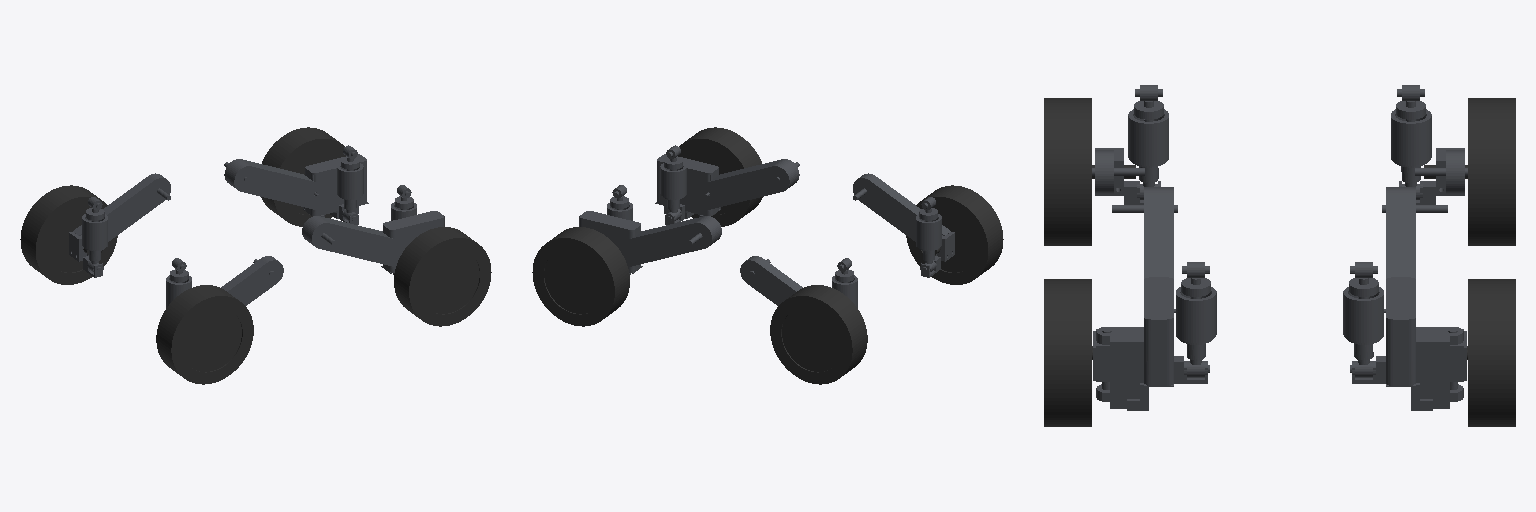
The robot description file, URDF, robot "delivery_bot":
<?xml version="1.0"?>
<!-- Delivery-Bot (Fusion model Delivery-Bot-Body-02, V-0.2)
     Frame convention: x = forward, y = left, z = up, metres. base_link origin = ground point below the rear axle centre.
     Fusion parts named "..._Right" are on the robot's LEFT side (+y) and vice versa.
     Actuated joints: 2x steering (DS5160 servo, position), 4x hub-motor wheels (velocity).
     Passive joints: 4x suspension (trailing arms with spring/damper - set stiffness/damping in the simulator).
     The lid-lock servo (MZ996) is intentionally NOT modelled as an actuator. -->
<robot name="delivery_bot">
  <material name="body_white"><color rgba="0.92 0.90 0.85 1"/></material>
  <material name="part_grey"><color rgba="0.35 0.36 0.38 1"/></material>
  <material name="wheel_grey"><color rgba="0.25 0.25 0.25 1"/></material>
  <link name="base_link">
    <inertial>
      <origin xyz="0.2364 0.0095 0.2697" rpy="0 0 0"/>
      <mass value="15.497"/>
      <inertia ixx="0.63925" ixy="0" ixz="0" iyy="0.82522" iyz="0" izz="0.93912"/>
    </inertial>
    <visual>
      <origin xyz="0.5750 0.0000 0.2100" rpy="0 0 1.5708"/>
      <geometry><mesh filename="package://delivery_bot/meshes/base.stl" scale="0.001 0.001 0.001"/></geometry>
      <material name="body_white"/>
    </visual>
    <collision>
      <origin xyz="0.2450 0.0000 0.3480" rpy="0 0 0"/>
      <geometry><box size="0.660 0.540 0.346"/></geometry>
    </collision>
    <collision>
      <origin xyz="0.2450 0.0000 0.1250" rpy="0 0 0"/>
      <geometry><box size="0.600 0.300 0.100"/></geometry>
    </collision>
  </link>
  <link name="front_left_arm">
    <inertial>
      <origin xyz="0.1553 0.0000 -0.0598" rpy="0 0 0"/>
      <mass value="0.896"/>
      <inertia ixx="0.00346" ixy="0" ixz="0" iyy="0.00777" iyz="0" izz="0.00714"/>
    </inertial>
    <visual>
      <origin xyz="0.2800 -0.1397 0.0341" rpy="0 0 1.5708"/>
      <geometry><mesh filename="package://delivery_bot/meshes/front_arm_R.stl" scale="0.001 0.001 0.001"/></geometry>
      <material name="part_grey"/>
    </visual>
  </link>
  <link name="front_left_steering">
    <inertial>
      <origin xyz="-0.0128 0.0081 -0.0002" rpy="0 0 0"/>
      <mass value="0.084"/>
      <inertia ixx="0.00003" ixy="0" ixz="0" iyy="0.00005" iyz="0" izz="0.00005"/>
    </inertial>
    <visual>
      <origin xyz="0.0650 -0.1980 0.1250" rpy="0 0 1.5708"/>
      <geometry><mesh filename="package://delivery_bot/meshes/steer_R.stl" scale="0.001 0.001 0.001"/></geometry>
      <material name="part_grey"/>
    </visual>
  </link>
  <link name="front_left_wheel">
    <inertial>
      <origin xyz="0.0000 0.0000 0.0000" rpy="0 0 0"/>
      <mass value="2.800"/>
      <inertia ixx="0.00574" ixy="0" ixz="0" iyy="0.01012" iyz="0" izz="0.00574"/>
    </inertial>
    <visual>
      <origin xyz="0.0850 -0.2425 0.1250" rpy="0 0 1.5708"/>
      <geometry><mesh filename="package://delivery_bot/meshes/wheel_front_R.stl" scale="0.001 0.001 0.001"/></geometry>
      <material name="wheel_grey"/>
    </visual>
    <collision>
      <origin xyz="0 0 0" rpy="1.5708 0 0"/>
      <geometry><cylinder radius="0.085" length="0.054"/></geometry>
    </collision>
  </link>
  <link name="rear_left_arm">
    <inertial>
      <origin xyz="-0.1051 -0.0241 -0.0328" rpy="0 0 0"/>
      <mass value="0.377"/>
      <inertia ixx="0.00094" ixy="0" ixz="0" iyy="0.00199" iyz="0" izz="0.00155"/>
    </inertial>
    <visual>
      <origin xyz="0.4200 -0.2010 0.0527" rpy="0 0 1.5708"/>
      <geometry><mesh filename="package://delivery_bot/meshes/rear_arm_R.stl" scale="0.001 0.001 0.001"/></geometry>
      <material name="part_grey"/>
    </visual>
  </link>
  <link name="rear_left_wheel">
    <inertial>
      <origin xyz="0.0000 0.0000 0.0000" rpy="0 0 0"/>
      <mass value="2.800"/>
      <inertia ixx="0.00574" ixy="0" ixz="0" iyy="0.01012" iyz="0" izz="0.00574"/>
    </inertial>
    <visual>
      <origin xyz="0.5750 -0.2425 0.1250" rpy="0 0 1.5708"/>
      <geometry><mesh filename="package://delivery_bot/meshes/wheel_rear_R.stl" scale="0.001 0.001 0.001"/></geometry>
      <material name="wheel_grey"/>
    </visual>
    <collision>
      <origin xyz="0 0 0" rpy="1.5708 0 0"/>
      <geometry><cylinder radius="0.085" length="0.054"/></geometry>
    </collision>
  </link>
  <link name="front_right_arm">
    <inertial>
      <origin xyz="0.1553 0.0000 -0.0598" rpy="0 0 0"/>
      <mass value="0.896"/>
      <inertia ixx="0.00346" ixy="0" ixz="0" iyy="0.00777" iyz="0" izz="0.00714"/>
    </inertial>
    <visual>
      <origin xyz="0.2800 0.1397 0.0341" rpy="0 0 1.5708"/>
      <geometry><mesh filename="package://delivery_bot/meshes/front_arm_L.stl" scale="0.001 0.001 0.001"/></geometry>
      <material name="part_grey"/>
    </visual>
  </link>
  <link name="front_right_steering">
    <inertial>
      <origin xyz="-0.0128 -0.0081 -0.0002" rpy="0 0 0"/>
      <mass value="0.084"/>
      <inertia ixx="0.00003" ixy="0" ixz="0" iyy="0.00005" iyz="0" izz="0.00005"/>
    </inertial>
    <visual>
      <origin xyz="0.0650 0.1980 0.1250" rpy="0 0 1.5708"/>
      <geometry><mesh filename="package://delivery_bot/meshes/steer_L.stl" scale="0.001 0.001 0.001"/></geometry>
      <material name="part_grey"/>
    </visual>
  </link>
  <link name="front_right_wheel">
    <inertial>
      <origin xyz="0.0000 0.0000 0.0000" rpy="0 0 0"/>
      <mass value="2.800"/>
      <inertia ixx="0.00574" ixy="0" ixz="0" iyy="0.01012" iyz="0" izz="0.00574"/>
    </inertial>
    <visual>
      <origin xyz="0.0850 0.2425 0.1250" rpy="0 0 1.5708"/>
      <geometry><mesh filename="package://delivery_bot/meshes/wheel_front_L.stl" scale="0.001 0.001 0.001"/></geometry>
      <material name="wheel_grey"/>
    </visual>
    <collision>
      <origin xyz="0 0 0" rpy="1.5708 0 0"/>
      <geometry><cylinder radius="0.085" length="0.054"/></geometry>
    </collision>
  </link>
  <link name="rear_right_arm">
    <inertial>
      <origin xyz="-0.1051 0.0241 -0.0328" rpy="0 0 0"/>
      <mass value="0.377"/>
      <inertia ixx="0.00094" ixy="0" ixz="0" iyy="0.00199" iyz="0" izz="0.00155"/>
    </inertial>
    <visual>
      <origin xyz="0.4200 0.2010 0.0527" rpy="0 0 1.5708"/>
      <geometry><mesh filename="package://delivery_bot/meshes/rear_arm_L.stl" scale="0.001 0.001 0.001"/></geometry>
      <material name="part_grey"/>
    </visual>
  </link>
  <link name="rear_right_wheel">
    <inertial>
      <origin xyz="0.0000 0.0000 0.0000" rpy="0 0 0"/>
      <mass value="2.800"/>
      <inertia ixx="0.00574" ixy="0" ixz="0" iyy="0.01012" iyz="0" izz="0.00574"/>
    </inertial>
    <visual>
      <origin xyz="0.5750 0.2425 0.1250" rpy="0 0 1.5708"/>
      <geometry><mesh filename="package://delivery_bot/meshes/wheel_rear_L.stl" scale="0.001 0.001 0.001"/></geometry>
      <material name="wheel_grey"/>
    </visual>
    <collision>
      <origin xyz="0 0 0" rpy="1.5708 0 0"/>
      <geometry><cylinder radius="0.085" length="0.054"/></geometry>
    </collision>
  </link>
  <joint name="front_left_suspension_joint" type="revolute">
    <parent link="base_link"/>
    <child link="front_left_arm"/>
    <origin xyz="0.2950 0.1397 0.1759" rpy="0 0 0"/>
    <axis xyz="0 1 0"/>
    <limit lower="-0.122" upper="0.140" effort="200.0" velocity="5.0"/>
    <dynamics damping="2.00" friction="0.10"/>
  </joint>
  <joint name="front_left_steering_joint" type="revolute">
    <parent link="front_left_arm"/>
    <child link="front_left_steering"/>
    <origin xyz="0.2150 0.0583 -0.0909" rpy="0 0 0"/>
    <axis xyz="0 0 1"/>
    <limit lower="-0.349" upper="0.454" effort="5.9" velocity="7.0"/>
    <dynamics damping="0.05" friction="0.05"/>
  </joint>
  <joint name="front_left_wheel_joint" type="continuous">
    <parent link="front_left_steering"/>
    <child link="front_left_wheel"/>
    <origin xyz="-0.0200 0.0445 0.0000" rpy="0 0 0"/>
    <axis xyz="0 1 0"/>
    <limit effort="10.0" velocity="35.0"/>
    <dynamics damping="0.01" friction="0.02"/>
  </joint>
  <joint name="rear_left_suspension_joint" type="revolute">
    <parent link="base_link"/>
    <child link="rear_left_arm"/>
    <origin xyz="0.1550 0.2010 0.1573" rpy="0 0 0"/>
    <axis xyz="0 1 0"/>
    <limit lower="-0.175" upper="0.175" effort="200.0" velocity="5.0"/>
    <dynamics damping="2.00" friction="0.10"/>
  </joint>
  <joint name="rear_left_wheel_joint" type="continuous">
    <parent link="rear_left_arm"/>
    <child link="rear_left_wheel"/>
    <origin xyz="-0.1550 0.0415 -0.0723" rpy="0 0 0"/>
    <axis xyz="0 1 0"/>
    <limit effort="10.0" velocity="35.0"/>
    <dynamics damping="0.01" friction="0.02"/>
  </joint>
  <joint name="front_right_suspension_joint" type="revolute">
    <parent link="base_link"/>
    <child link="front_right_arm"/>
    <origin xyz="0.2950 -0.1397 0.1759" rpy="0 0 0"/>
    <axis xyz="0 1 0"/>
    <limit lower="-0.122" upper="0.140" effort="200.0" velocity="5.0"/>
    <dynamics damping="2.00" friction="0.10"/>
  </joint>
  <joint name="front_right_steering_joint" type="revolute">
    <parent link="front_right_arm"/>
    <child link="front_right_steering"/>
    <origin xyz="0.2150 -0.0583 -0.0909" rpy="0 0 0"/>
    <axis xyz="0 0 1"/>
    <limit lower="-0.454" upper="0.349" effort="5.9" velocity="7.0"/>
    <dynamics damping="0.05" friction="0.05"/>
  </joint>
  <joint name="front_right_wheel_joint" type="continuous">
    <parent link="front_right_steering"/>
    <child link="front_right_wheel"/>
    <origin xyz="-0.0200 -0.0445 0.0000" rpy="0 0 0"/>
    <axis xyz="0 1 0"/>
    <limit effort="10.0" velocity="35.0"/>
    <dynamics damping="0.01" friction="0.02"/>
  </joint>
  <joint name="rear_right_suspension_joint" type="revolute">
    <parent link="base_link"/>
    <child link="rear_right_arm"/>
    <origin xyz="0.1550 -0.2010 0.1573" rpy="0 0 0"/>
    <axis xyz="0 1 0"/>
    <limit lower="-0.175" upper="0.175" effort="200.0" velocity="5.0"/>
    <dynamics damping="2.00" friction="0.10"/>
  </joint>
  <joint name="rear_right_wheel_joint" type="continuous">
    <parent link="rear_right_arm"/>
    <child link="rear_right_wheel"/>
    <origin xyz="-0.1550 -0.0415 -0.0723" rpy="0 0 0"/>
    <axis xyz="0 1 0"/>
    <limit effort="10.0" velocity="35.0"/>
    <dynamics damping="0.01" friction="0.02"/>
  </joint>
  <link name="lidar_link"/>
  <joint name="lidar_link_joint" type="fixed">
    <parent link="base_link"/>
    <child link="lidar_link"/>
    <origin xyz="0.4550 0.0000 0.5146" rpy="0 0 0.0000"/>
  </joint>
  <link name="stereo_camera_link"/>
  <joint name="stereo_camera_link_joint" type="fixed">
    <parent link="base_link"/>
    <child link="stereo_camera_link"/>
    <origin xyz="0.5510 0.0000 0.4180" rpy="0 0 0.0000"/>
  </joint>
  <link name="stereo_left_camera"/>
  <joint name="stereo_left_camera_joint" type="fixed">
    <parent link="base_link"/>
    <child link="stereo_left_camera"/>
    <origin xyz="0.5510 0.0310 0.4180" rpy="0 0 0.0000"/>
  </joint>
  <link name="stereo_left_camera_optical_frame"/>
  <joint name="stereo_left_camera_optical_joint" type="fixed">
    <parent link="stereo_left_camera"/>
    <child link="stereo_left_camera_optical_frame"/>
    <origin xyz="0 0 0" rpy="-1.5708 0 -1.5708"/>
  </joint>
  <link name="stereo_right_camera"/>
  <joint name="stereo_right_camera_joint" type="fixed">
    <parent link="base_link"/>
    <child link="stereo_right_camera"/>
    <origin xyz="0.5510 -0.0310 0.4180" rpy="0 0 0.0000"/>
  </joint>
  <link name="stereo_right_camera_optical_frame"/>
  <joint name="stereo_right_camera_optical_joint" type="fixed">
    <parent link="stereo_right_camera"/>
    <child link="stereo_right_camera_optical_frame"/>
    <origin xyz="0 0 0" rpy="-1.5708 0 -1.5708"/>
  </joint>
  <link name="mono_left_camera"/>
  <joint name="mono_left_camera_joint" type="fixed">
    <parent link="base_link"/>
    <child link="mono_left_camera"/>
    <origin xyz="0.5326 0.1575 0.4180" rpy="0 0 0.3787"/>
  </joint>
  <link name="mono_left_camera_optical_frame"/>
  <joint name="mono_left_camera_optical_joint" type="fixed">
    <parent link="mono_left_camera"/>
    <child link="mono_left_camera_optical_frame"/>
    <origin xyz="0 0 0" rpy="-1.5708 0 -1.5708"/>
  </joint>
  <link name="mono_right_camera"/>
  <joint name="mono_right_camera_joint" type="fixed">
    <parent link="base_link"/>
    <child link="mono_right_camera"/>
    <origin xyz="0.5326 -0.1575 0.4180" rpy="0 0 -0.3787"/>
  </joint>
  <link name="mono_right_camera_optical_frame"/>
  <joint name="mono_right_camera_optical_joint" type="fixed">
    <parent link="mono_right_camera"/>
    <child link="mono_right_camera_optical_frame"/>
    <origin xyz="0 0 0" rpy="-1.5708 0 -1.5708"/>
  </joint>
  <link name="radar_left_link"/>
  <joint name="radar_left_link_joint" type="fixed">
    <parent link="base_link"/>
    <child link="radar_left_link"/>
    <origin xyz="0.4872 0.2132 0.4180" rpy="0 0 0.9634"/>
  </joint>
  <link name="radar_right_link"/>
  <joint name="radar_right_link_joint" type="fixed">
    <parent link="base_link"/>
    <child link="radar_right_link"/>
    <origin xyz="0.4872 -0.2132 0.4180" rpy="0 0 -0.9634"/>
  </joint>
  <transmission name="front_left_steering_joint_trans">
    <type>transmission_interface/SimpleTransmission</type>
    <joint name="front_left_steering_joint"><hardwareInterface>hardware_interface/PositionJointInterface</hardwareInterface></joint>
    <actuator name="servo_ds5160_left"><hardwareInterface>hardware_interface/PositionJointInterface</hardwareInterface><mechanicalReduction>1</mechanicalReduction></actuator>
  </transmission>
  <transmission name="front_right_steering_joint_trans">
    <type>transmission_interface/SimpleTransmission</type>
    <joint name="front_right_steering_joint"><hardwareInterface>hardware_interface/PositionJointInterface</hardwareInterface></joint>
    <actuator name="servo_ds5160_right"><hardwareInterface>hardware_interface/PositionJointInterface</hardwareInterface><mechanicalReduction>1</mechanicalReduction></actuator>
  </transmission>
  <transmission name="front_left_wheel_joint_trans">
    <type>transmission_interface/SimpleTransmission</type>
    <joint name="front_left_wheel_joint"><hardwareInterface>hardware_interface/VelocityJointInterface</hardwareInterface></joint>
    <actuator name="hub_motor_front_left"><hardwareInterface>hardware_interface/VelocityJointInterface</hardwareInterface><mechanicalReduction>1</mechanicalReduction></actuator>
  </transmission>
  <transmission name="front_right_wheel_joint_trans">
    <type>transmission_interface/SimpleTransmission</type>
    <joint name="front_right_wheel_joint"><hardwareInterface>hardware_interface/VelocityJointInterface</hardwareInterface></joint>
    <actuator name="hub_motor_front_right"><hardwareInterface>hardware_interface/VelocityJointInterface</hardwareInterface><mechanicalReduction>1</mechanicalReduction></actuator>
  </transmission>
  <transmission name="rear_left_wheel_joint_trans">
    <type>transmission_interface/SimpleTransmission</type>
    <joint name="rear_left_wheel_joint"><hardwareInterface>hardware_interface/VelocityJointInterface</hardwareInterface></joint>
    <actuator name="hub_motor_rear_left"><hardwareInterface>hardware_interface/VelocityJointInterface</hardwareInterface><mechanicalReduction>1</mechanicalReduction></actuator>
  </transmission>
  <transmission name="rear_right_wheel_joint_trans">
    <type>transmission_interface/SimpleTransmission</type>
    <joint name="rear_right_wheel_joint"><hardwareInterface>hardware_interface/VelocityJointInterface</hardwareInterface></joint>
    <actuator name="hub_motor_rear_right"><hardwareInterface>hardware_interface/VelocityJointInterface</hardwareInterface><mechanicalReduction>1</mechanicalReduction></actuator>
  </transmission>
  <!-- Sensor descriptions (Gazebo syntax; Unity ignores these - see README). PLACEHOLDER values must be replaced with datasheet values. -->
  <gazebo reference="lidar_link">
    <sensor type="ray" name="lidar"><update_rate>10</update_rate>
      <ray><scan><horizontal><samples>360</samples><min_angle>-3.14159</min_angle><max_angle>3.14159</max_angle></horizontal></scan>
        <range><min>0.15</min><max>12.0</max><resolution>0.01</resolution></range></ray>
    </sensor>
  </gazebo>
  <gazebo reference="stereo_left_camera">
    <sensor type="camera" name="stereo_left"><update_rate>30</update_rate>
      <camera><horizontal_fov>2.06</horizontal_fov><image><width>1920</width><height>1080</height></image><clip><near>0.05</near><far>50</far></clip></camera>
    </sensor>
  </gazebo>
  <gazebo reference="stereo_right_camera">
    <sensor type="camera" name="stereo_right"><update_rate>30</update_rate>
      <camera><horizontal_fov>2.06</horizontal_fov><image><width>1920</width><height>1080</height></image><clip><near>0.05</near><far>50</far></clip></camera>
    </sensor>
  </gazebo>
  <gazebo reference="mono_left_camera">
    <sensor type="camera" name="mono_left"><update_rate>30</update_rate>
      <camera><horizontal_fov>1.2</horizontal_fov><image><width>1280</width><height>720</height></image><clip><near>0.05</near><far>50</far></clip></camera>
    </sensor><!-- PLACEHOLDER specs -->
  </gazebo>
  <gazebo reference="mono_right_camera">
    <sensor type="camera" name="mono_right"><update_rate>30</update_rate>
      <camera><horizontal_fov>1.2</horizontal_fov><image><width>1280</width><height>720</height></image><clip><near>0.05</near><far>50</far></clip></camera>
    </sensor><!-- PLACEHOLDER specs -->
  </gazebo>
  <gazebo reference="radar_left_link">
    <sensor type="ray" name="radar_left"><update_rate>20</update_rate>
      <ray><scan><horizontal><samples>32</samples><min_angle>-0.35</min_angle><max_angle>0.35</max_angle></horizontal></scan>
        <range><min>0.2</min><max>6.0</max><resolution>0.05</resolution></range></ray>
    </sensor><!-- PLACEHOLDER specs -->
  </gazebo>
  <gazebo reference="radar_right_link">
    <sensor type="ray" name="radar_right"><update_rate>20</update_rate>
      <ray><scan><horizontal><samples>32</samples><min_angle>-0.35</min_angle><max_angle>0.35</max_angle></horizontal></scan>
        <range><min>0.2</min><max>6.0</max><resolution>0.05</resolution></range></ray>
    </sensor><!-- PLACEHOLDER specs -->
  </gazebo>
</robot>

--- Render facts (derived) ---
The picture shows the robot from 3 angles, left to right: view 1: azimuth 30°, elevation 25°; view 2: azimuth 150°, elevation 25°; view 3: azimuth 270°, elevation 25°; orthographic projection.
Model delivery_bot with 23 links and 22 joints (6 revolute, 4 continuous, 12 fixed), rooted at base_link, posed every joint at zero.
Visible links, largest first — view 1: rear_right_wheel, front_right_wheel, front_left_arm, rear_left_wheel, front_right_arm, rear_left_arm, front_left_wheel, rear_right_arm; view 2: rear_left_wheel, front_left_wheel, front_right_arm, rear_right_wheel, front_left_arm, rear_right_arm, front_right_wheel, rear_left_arm; view 3: front_left_arm, front_right_arm, rear_left_wheel, rear_right_wheel, front_left_wheel, front_right_wheel, rear_right_arm, rear_left_arm, front_left_steering, front_right_steering.
Boxes of the visible links, x1=… form: rear_right_wheel: x1=156, y1=285, x2=253, y2=384; front_right_wheel: x1=394, y1=227, x2=491, y2=326; front_left_arm: x1=224, y1=145, x2=368, y2=224; rear_left_wheel: x1=20, y1=185, x2=117, y2=284; front_right_arm: x1=302, y1=185, x2=444, y2=274; rear_left_arm: x1=69, y1=173, x2=170, y2=277; front_left_wheel: x1=261, y1=127, x2=345, y2=226; rear_right_arm: x1=166, y1=256, x2=283, y2=307; rear_left_wheel: x1=770, y1=285, x2=867, y2=384; front_left_wheel: x1=532, y1=227, x2=629, y2=326; front_right_arm: x1=655, y1=145, x2=799, y2=224; rear_right_wheel: x1=906, y1=185, x2=1003, y2=284; front_left_arm: x1=579, y1=185, x2=721, y2=274; rear_right_arm: x1=853, y1=173, x2=954, y2=277; front_right_wheel: x1=678, y1=127, x2=762, y2=226; rear_left_arm: x1=740, y1=256, x2=857, y2=307; front_left_arm: x1=1343, y1=187, x2=1463, y2=410; front_right_arm: x1=1096, y1=187, x2=1216, y2=410; rear_left_wheel: x1=1424, y1=98, x2=1515, y2=245; rear_right_wheel: x1=1044, y1=98, x2=1135, y2=245; front_left_wheel: x1=1467, y1=279, x2=1515, y2=426; front_right_wheel: x1=1044, y1=279, x2=1092, y2=426; rear_right_arm: x1=1092, y1=85, x2=1168, y2=204; rear_left_arm: x1=1391, y1=85, x2=1467, y2=204; front_left_steering: x1=1450, y1=329, x2=1466, y2=381; front_right_steering: x1=1093, y1=329, x2=1109, y2=381.
Size in the robot's own frame: 0.66 by 0.539 by 0.2015 metres.
Meshes: 11 distinct files referenced, 10 mesh visuals loaded (10 binary STL); not drawn: 1 (reference not matched to a file when rendering).
